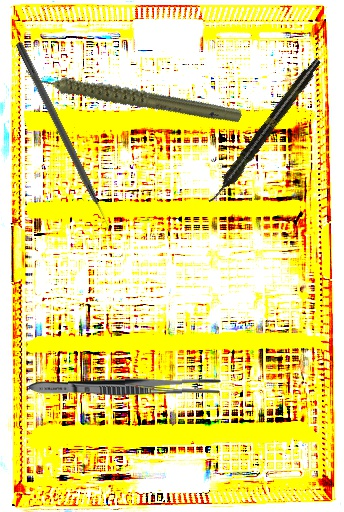Dressing Forceps: (28, 375, 222, 398)
Handpiece: (22, 21, 245, 167), (204, 55, 325, 208)
Hook Surgical: (13, 40, 117, 238)
